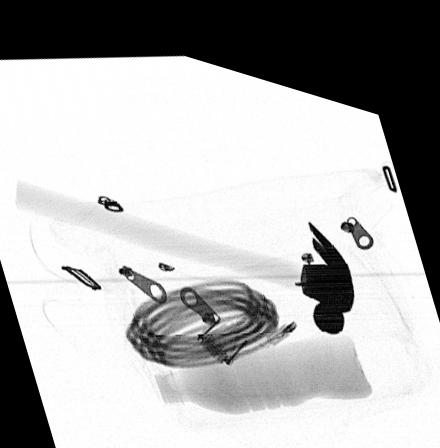Hammer: (15, 178, 356, 315)
